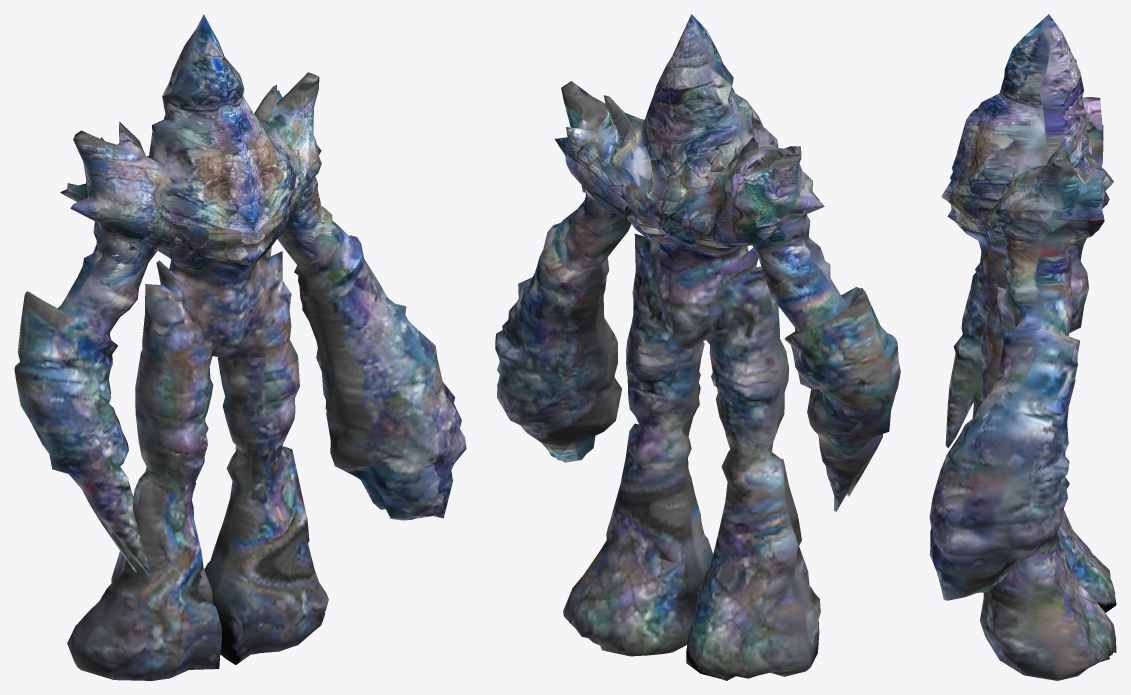
Rendered from crystal-atronach-overview-v1.glb.
3 renders of one model, left to right at view 1: azimuth 30°, elevation 25°; view 2: azimuth 150°, elevation 25°; view 3: azimuth 270°, elevation 25°, orthographic. The views are drawn at different scales.
Visible parts, largest first — view 1: crystal-atronach; view 2: crystal-atronach; view 3: crystal-atronach.
Part boxes in pixels (left/top/right/bottom): crystal-atronach: left=14, top=14, right=466, bottom=680; crystal-atronach: left=495, top=14, right=900, bottom=680; crystal-atronach: left=929, top=14, right=1116, bottom=680.
Bounding box in the file's own units: 1.34 × 2 × 0.5448.
Materials: 1 (1 with a texture image).
